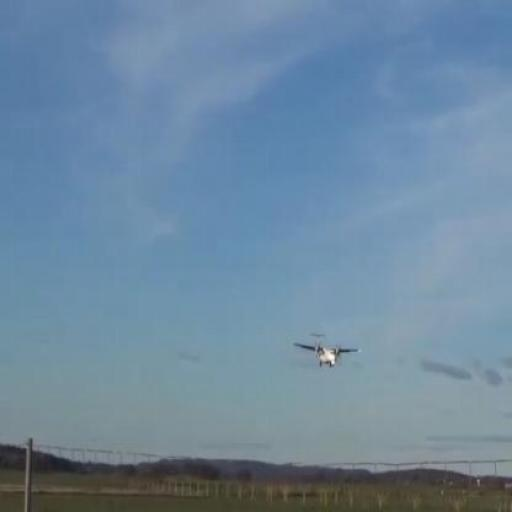aircraft: (293, 336, 359, 367)
